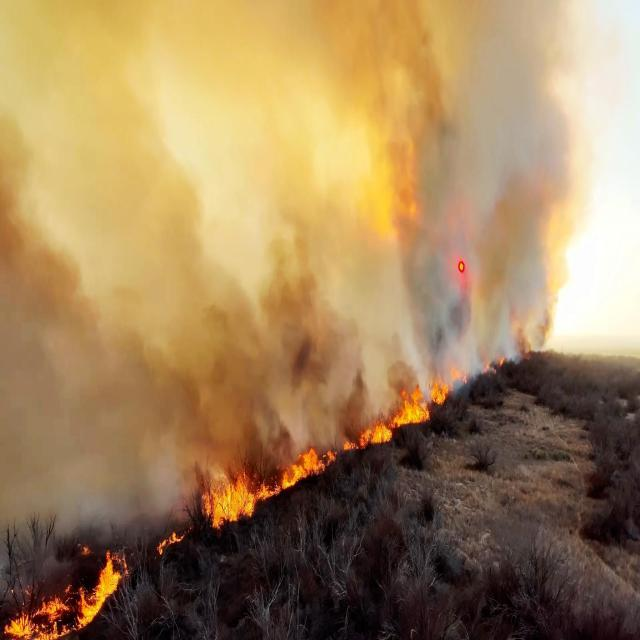Fire: (4, 563, 124, 640), (361, 383, 432, 446), (205, 464, 254, 534)
Smoke: (0, 2, 549, 252), (0, 0, 172, 509), (168, 174, 352, 454)
